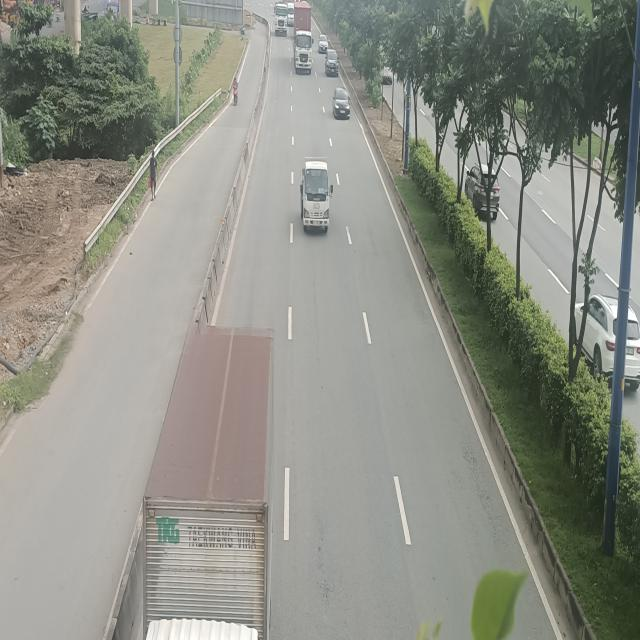car: (332, 86, 351, 120), (325, 49, 339, 77), (318, 34, 329, 52)
container: (294, 2, 314, 74), (275, 3, 288, 37)
truck: (140, 322, 274, 640), (300, 159, 333, 231)
